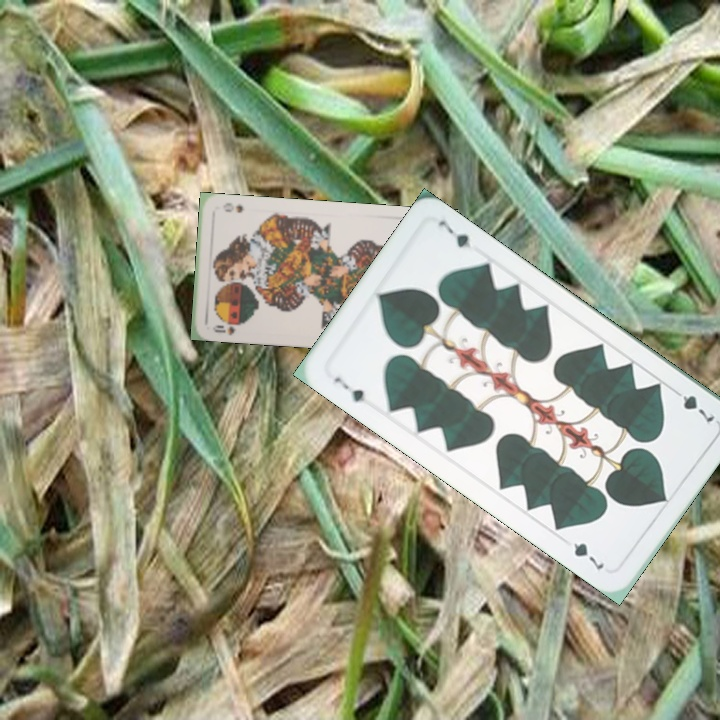G7: (667, 383, 718, 427), (329, 372, 368, 405)
SO: (209, 321, 238, 338)
